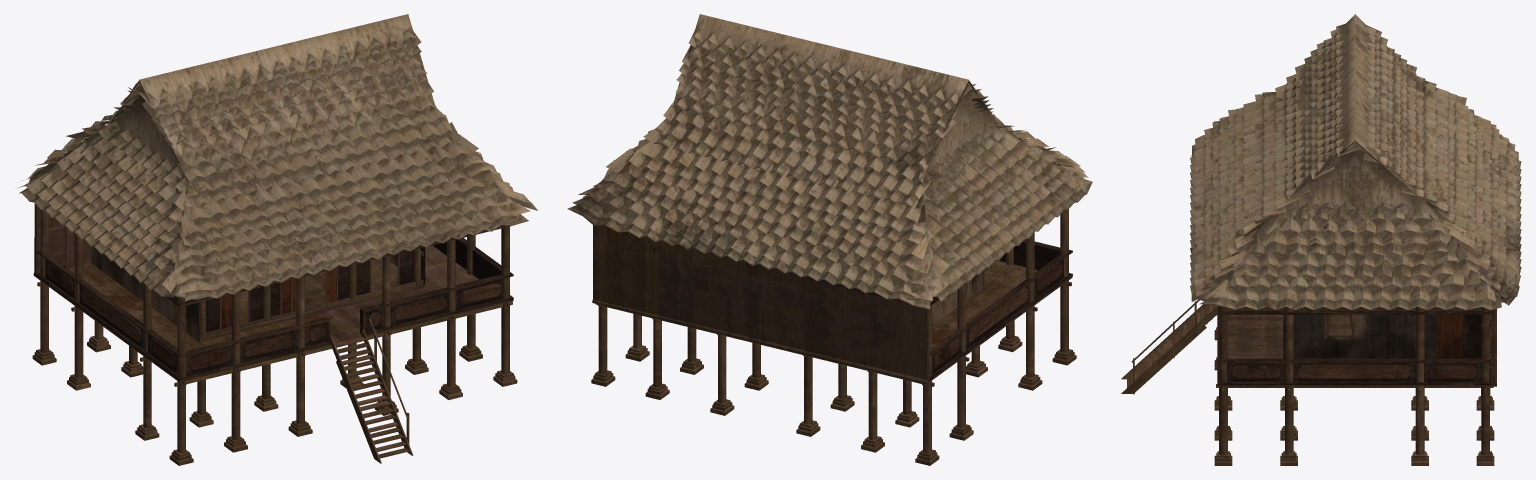
File: nha-san-can-tho.glb
3 renders of one model, left to right at view 1: azimuth 30°, elevation 25°; view 2: azimuth 150°, elevation 25°; view 3: azimuth 270°, elevation 25°, orthographic. The views are drawn at different scales.
Parts seen in each view (by area): view 1: Object_2, Object_3; view 2: Object_3, Object_2; view 3: Object_2, Object_3.
Boxes of the visible parts, x1,y1,x2,y2 form: Object_2: (19,14,537,465); Object_3: (17,83,513,418); Object_3: (567,28,1072,384); Object_2: (583,14,1092,465); Object_2: (1121,14,1513,465); Object_3: (1131,25,1521,386).
Size of the model in its own units: 1 by 0.8324 by 0.9737.
Materials: 1 (1 with a texture image).
